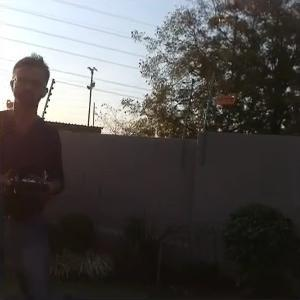follow: (0, 52, 85, 298)
